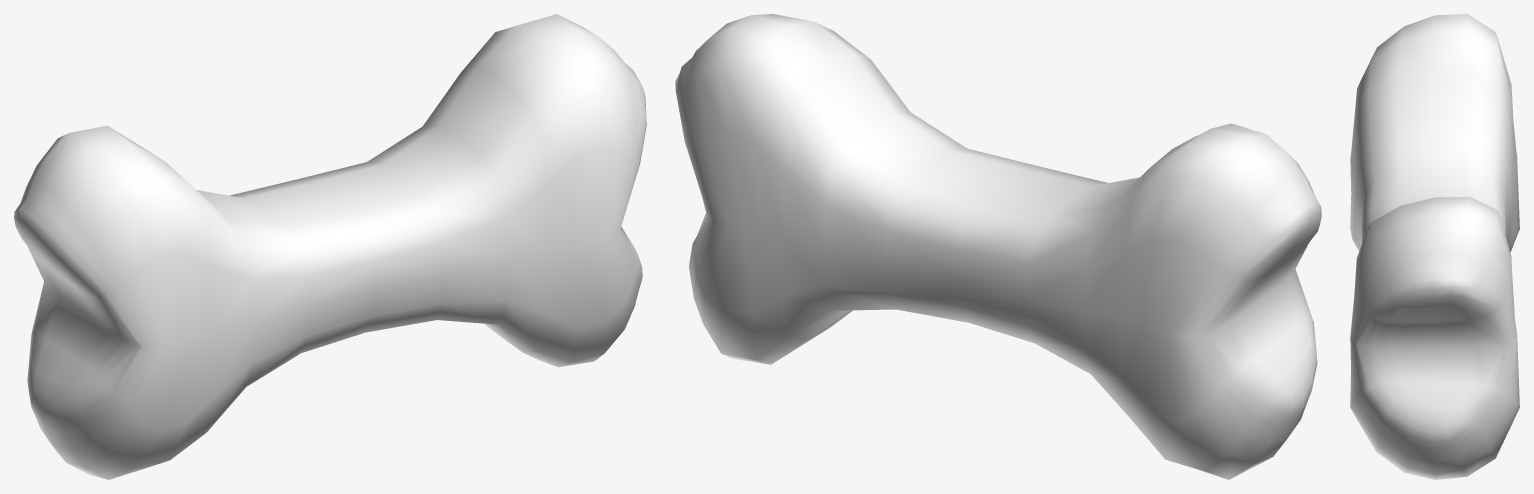
File: kemik.fbx
The picture shows the model from 3 angles, left to right: view 1: azimuth 30°, elevation 25°; view 2: azimuth 150°, elevation 25°; view 3: azimuth 270°, elevation 25°; orthographic projection. The views are drawn at different scales.
Visible parts, largest first — view 1: kemik; view 2: kemik; view 3: kemik.
Part boxes in pixels (box(x1,y1,x2,y2)): kemik: box(14, 14, 646, 479); kemik: box(675, 14, 1321, 479); kemik: box(1350, 14, 1519, 479).
Size of the model in its own units: 434 by 223 by 127.
